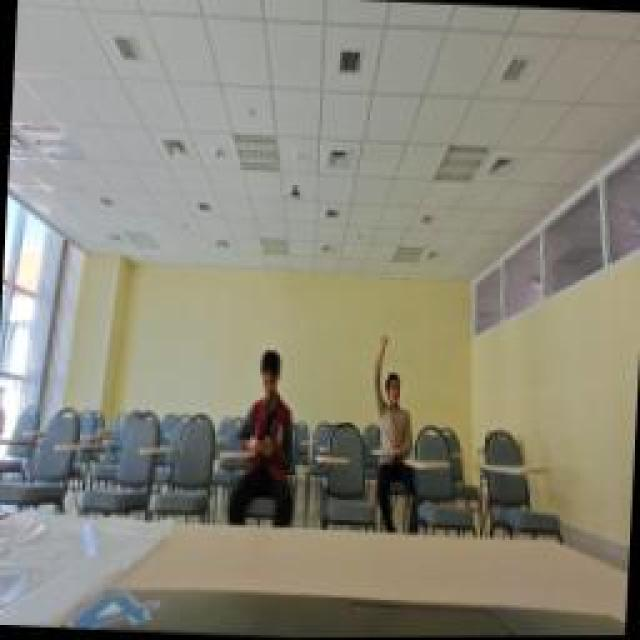phone: (230, 345, 295, 457)
study: (368, 333, 420, 455)
